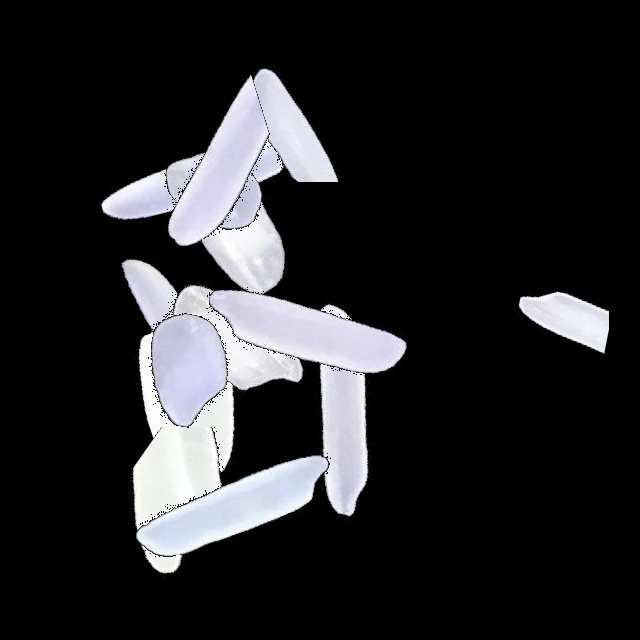Broken: (101, 37, 274, 287), (199, 23, 449, 182), (76, 427, 326, 583), (469, 197, 609, 447), (370, 304, 620, 382)
Full: (52, 213, 302, 463), (76, 53, 326, 303), (66, 259, 316, 509), (111, 216, 361, 466), (213, 286, 463, 536), (109, 96, 359, 346), (182, 206, 432, 456), (61, 246, 311, 496), (106, 382, 356, 632), (90, 66, 340, 316)
